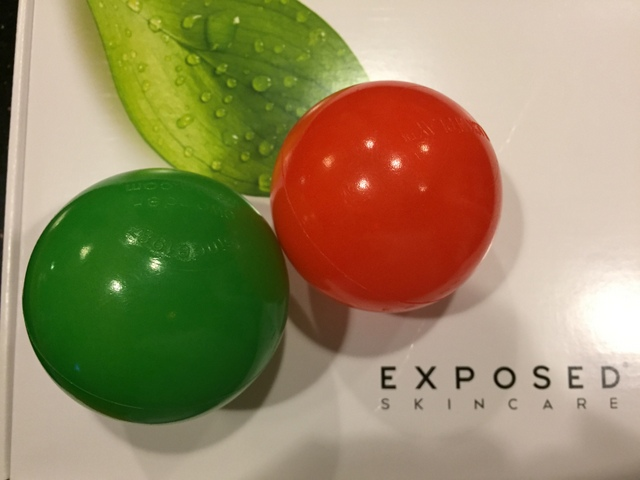Ball: (24, 167, 288, 417)
